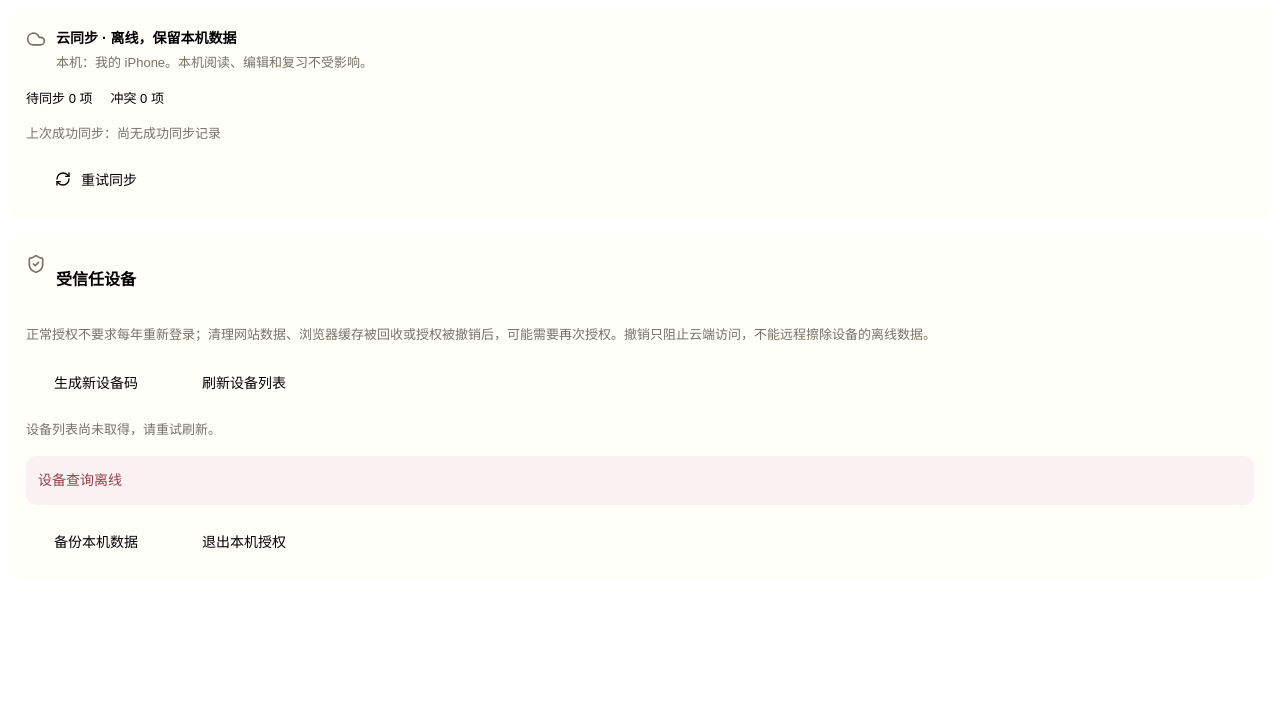
Test case: mobile cloud components › reports a device-list error and supports manual refresh without a false empty-list claim
Expected: the text "设备查询离线" is shown, [26,456,1254,505]
Expected: the text "设备列表尚未取得，请重试刷新。" is shown, [26,422,221,437]
Click the button "刷新设备列表": point(244, 382) [174,360,314,404]
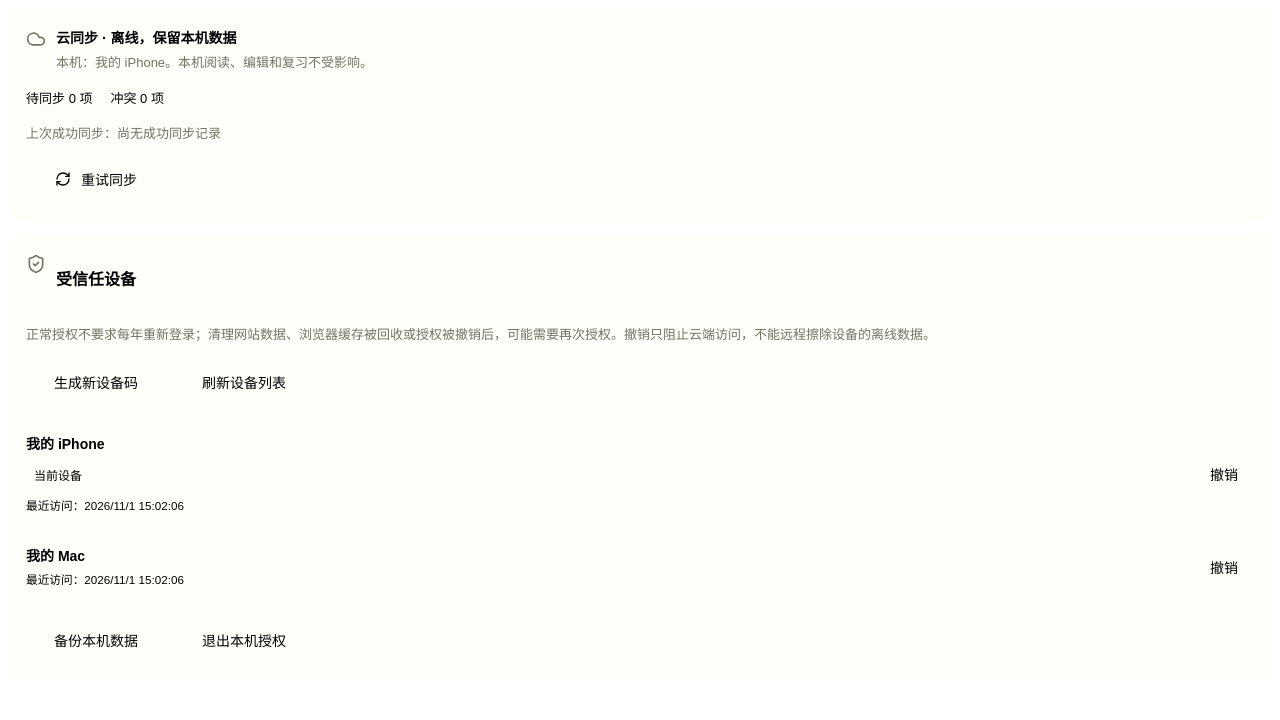
Result: the text "我的 Mac" is shown at [26,548,85,564]
